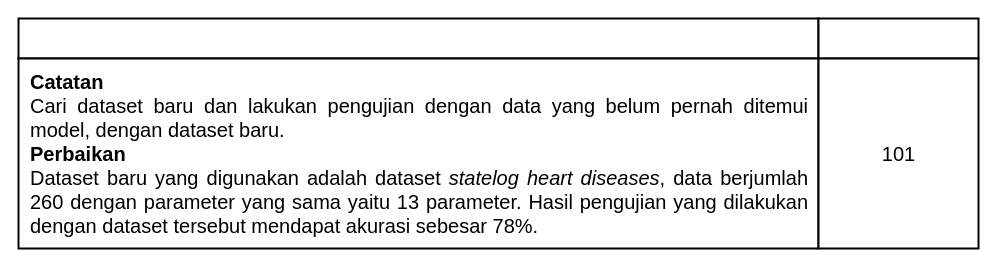
The diagram is 996 pixels wide and 266 high, and some of its shapes have lost their labels. Here are the shapes that lost their labels. From the top down, the centre of each, then its label:
(418,38): Perbaikan
(898,38): Halaman
